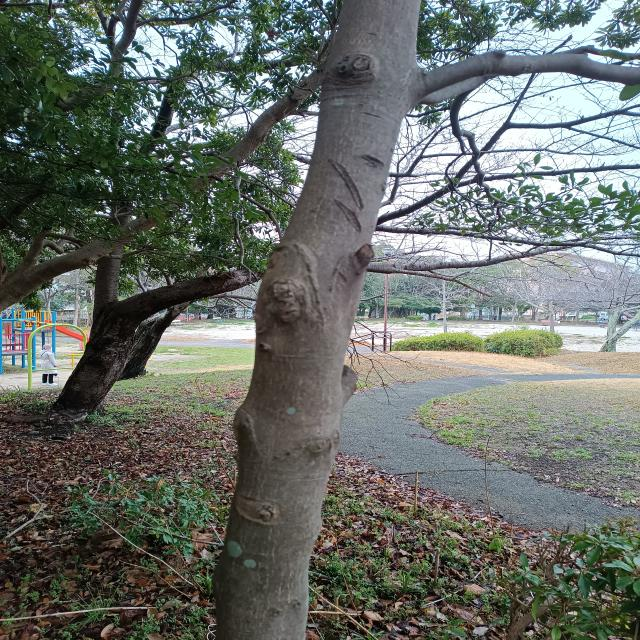Branch: (122, 263, 262, 329), (93, 254, 122, 317)
Twig: (376, 164, 640, 226), (455, 104, 640, 183), (428, 52, 640, 95), (376, 225, 640, 256), (450, 95, 501, 201), (366, 246, 573, 272), (564, 127, 640, 149), (570, 46, 640, 59)
